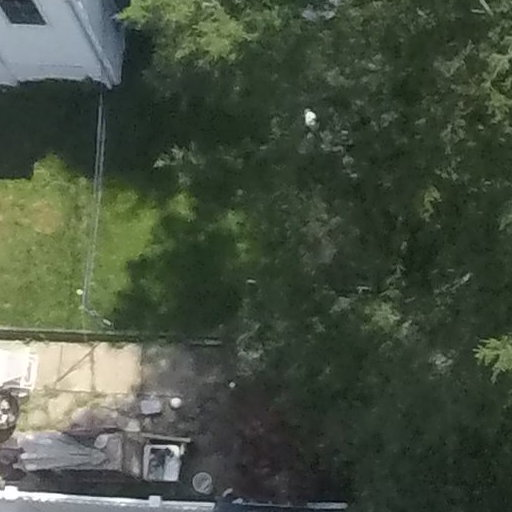container: (187, 467, 218, 497)
